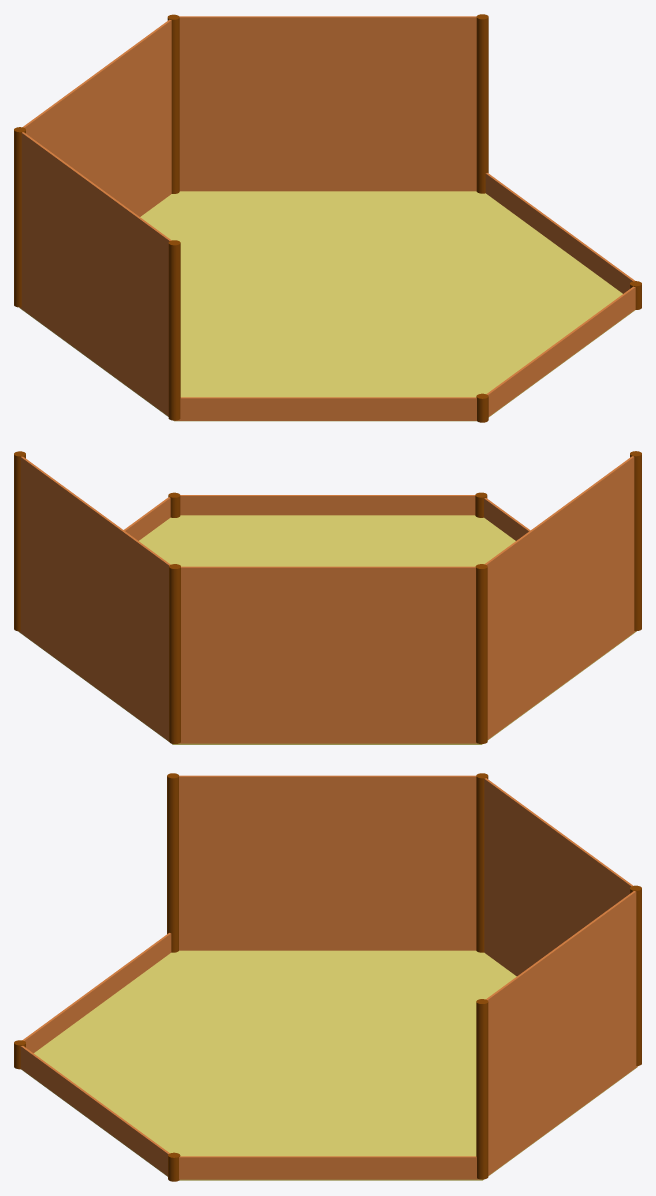
Rendered from proto_arena.fbx.
3 views of the same model, one above another, from view 1: azimuth 30°, elevation 25°; view 2: azimuth 150°, elevation 25°; view 3: azimuth 270°, elevation 25° (orthographic).
Parts seen in each view (by area): view 1: Cylinder, Cube.002, Cube, Cube.001, Cube.003, Cube.005, Cube.004, Cylinder.003, Cylinder.001, Cylinder.002, Cylinder.005; view 2: Cube.001, Cube.002, Cube, Cylinder, Cube.005, Cylinder.005, Cylinder.002, Cylinder.003, Cylinder.001, Cube.004, Cube.003; view 3: Cylinder, Cube, Cube.002, Cube.001, Cube.004, Cube.005, Cube.003, Cylinder.001, Cylinder.003, Cylinder.005, Cylinder.002.
Part boxes in pixels (x1,y1,x2,y2): Cylinder: (19, 191, 635, 421); Cube.002: (179, 16, 476, 191); Cube: (20, 132, 171, 416); Cube.001: (22, 19, 171, 216); Cube.003: (175, 397, 476, 420); Cube.005: (486, 286, 635, 416); Cube.004: (485, 173, 634, 293); Cylinder.003: (168, 240, 180, 420); Cylinder.001: (476, 14, 488, 193); Cylinder.002: (167, 14, 179, 193); Cylinder.005: (14, 127, 25, 307); Cube.001: (179, 566, 477, 743); Cube.002: (19, 456, 170, 740); Cube: (485, 456, 635, 739); Cylinder: (18, 515, 636, 744); Cube.005: (180, 495, 475, 515); Cylinder.005: (475, 564, 487, 743); Cylinder.002: (169, 564, 180, 743); Cylinder.003: (630, 451, 641, 631); Cylinder.001: (14, 451, 25, 631); Cube.004: (124, 497, 170, 540); Cube.003: (484, 498, 530, 540); Cylinder: (21, 950, 637, 1180); Cube: (179, 775, 476, 950); Cube.002: (483, 891, 637, 1179); Cube.001: (484, 778, 633, 976); Cube.004: (179, 1156, 481, 1179); Cube.005: (20, 1046, 169, 1175); Cube.003: (22, 933, 171, 1053); Cylinder.001: (476, 999, 488, 1179); Cylinder.003: (167, 773, 178, 952); Cylinder.005: (476, 773, 488, 952); Cylinder.002: (630, 885, 641, 1065).
Bounding box in the file's own units: 2566 × 924 × 2949.
